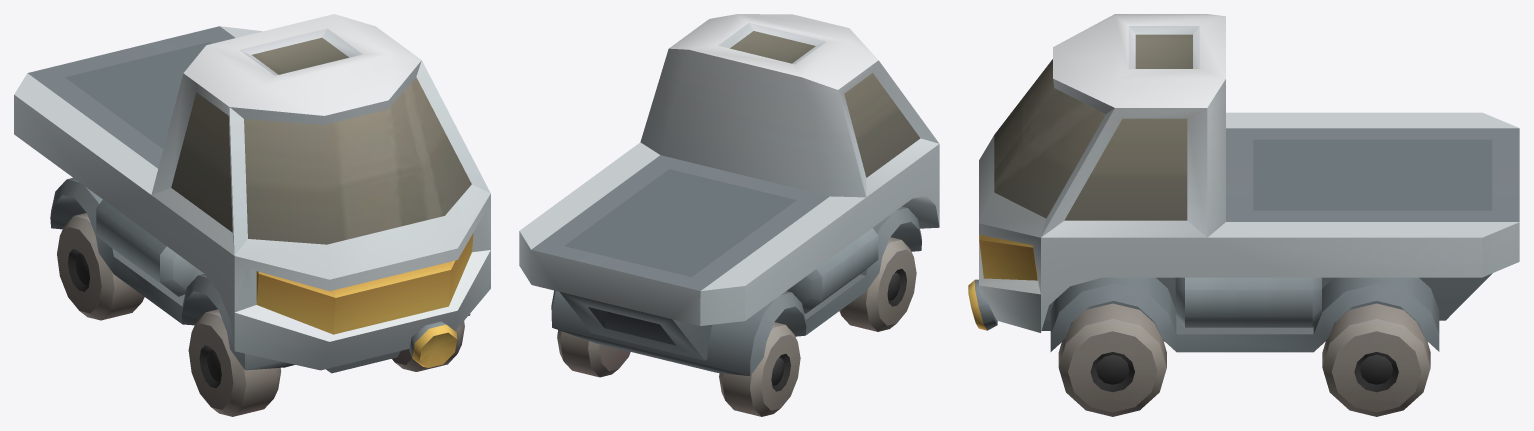
The model's file is space-truck.glb.
3 views of the same model, side by side, from view 1: azimuth 30°, elevation 25°; view 2: azimuth 150°, elevation 25°; view 3: azimuth 270°, elevation 25° (orthographic). The views are drawn at different scales.
Parts seen in each view (by area): view 1: spacetruck, spacetruck_wheel_front_right, spacetruck_wheel_rear_right, spacetruck_wheel_front_left; view 2: spacetruck, spacetruck_wheel_rear_right, spacetruck_wheel_front_right, spacetruck_wheel_rear_left; view 3: spacetruck, spacetruck_wheel_front_left, spacetruck_wheel_rear_left.
Boxes of the visible parts, x1,y1,x2,y2 form: spacetruck: (14, 14, 490, 373); spacetruck_wheel_front_right: (188, 309, 281, 416); spacetruck_wheel_rear_right: (57, 213, 144, 320); spacetruck_wheel_front_left: (392, 321, 464, 371); spacetruck: (519, 14, 939, 375); spacetruck_wheel_rear_right: (719, 322, 800, 416); spacetruck_wheel_front_right: (839, 237, 916, 331); spacetruck_wheel_rear_left: (557, 330, 630, 377); spacetruck: (968, 14, 1519, 352); spacetruck_wheel_front_left: (1058, 303, 1166, 416); spacetruck_wheel_rear_left: (1322, 303, 1430, 416).
Size of the model in its own units: 0.4895 by 0.5662 by 0.8933.
Materials: 1 (1 with a texture image).
